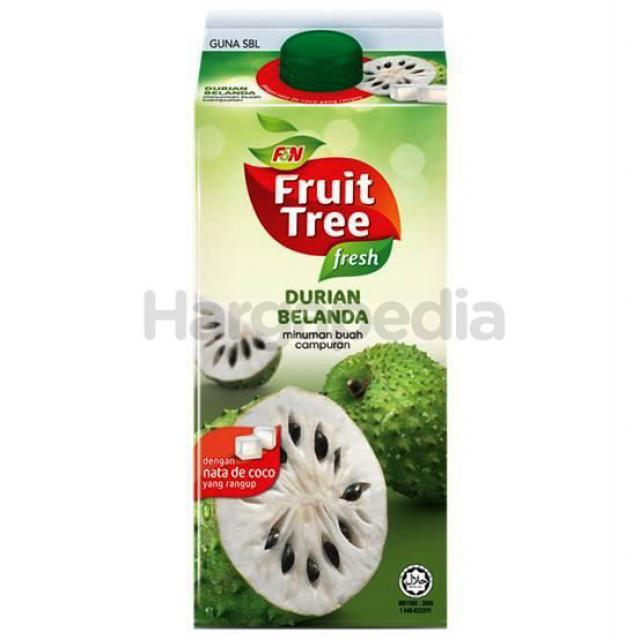non_white_jug: (176, 18, 452, 622)
